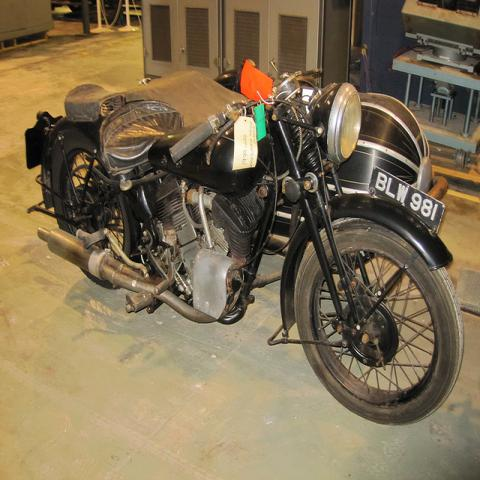motorcycle: (25, 56, 465, 425)
